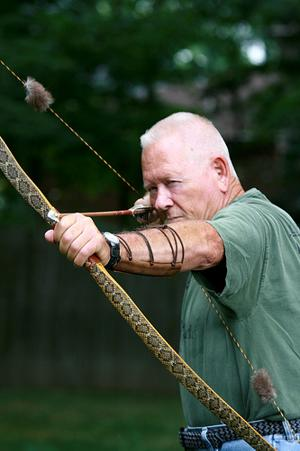person: (44, 111, 300, 451)
